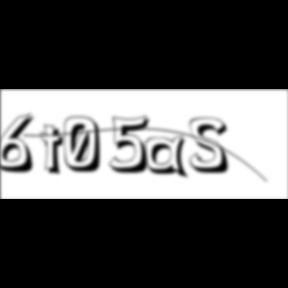0: (64, 115, 108, 174)
5: (108, 114, 156, 176)
6: (0, 112, 40, 176)
S: (190, 117, 236, 176)
a: (145, 135, 193, 182)
t: (40, 124, 72, 179)
